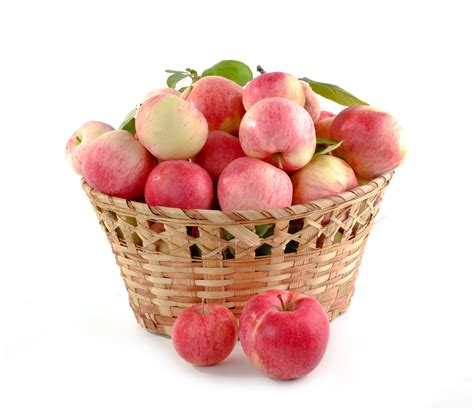apple: (238, 285, 333, 380), (236, 96, 319, 173), (135, 91, 212, 162), (170, 303, 239, 368), (141, 157, 213, 214), (243, 65, 309, 114), (61, 119, 112, 177)
